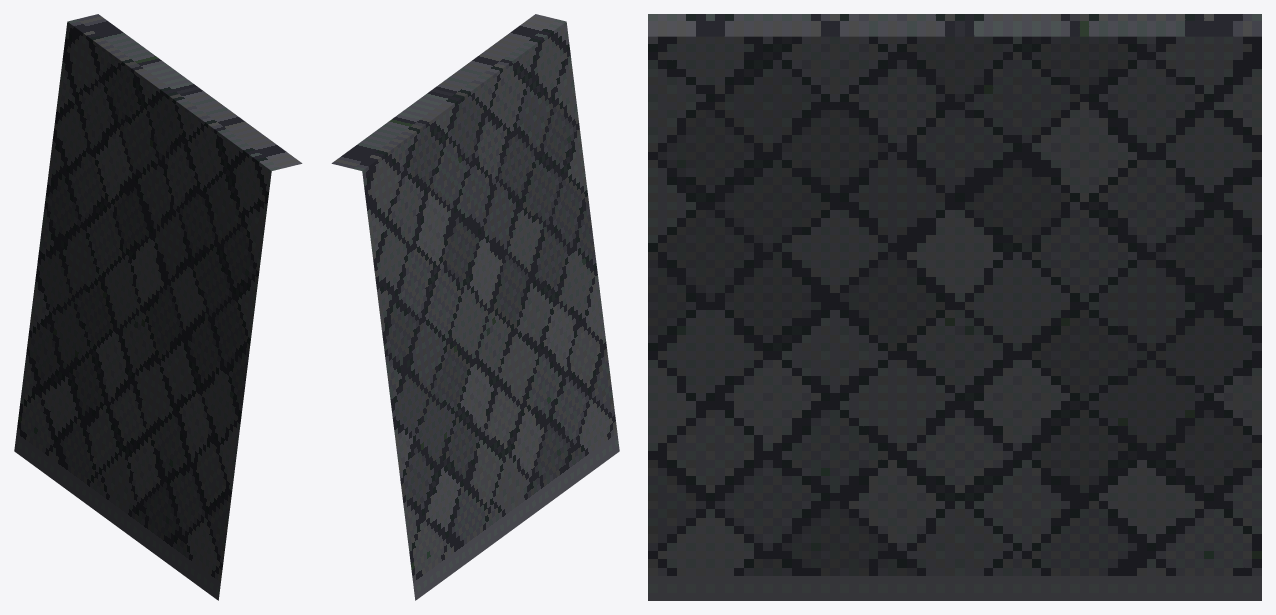
Rendered from mtn_stone_wall.glb.
3 renders of one model, left to right at view 1: azimuth 30°, elevation 25°; view 2: azimuth 150°, elevation 25°; view 3: azimuth 270°, elevation 25°, orthographic. The views are drawn at different scales.
Parts seen in each view (by area): view 1: mtn_stone_wall; view 2: mtn_stone_wall; view 3: mtn_stone_wall.
Boxes of the visible parts, x1,y1,x2,y2 form: mtn_stone_wall: (14, 14, 302, 600); mtn_stone_wall: (331, 14, 619, 600); mtn_stone_wall: (648, 14, 1261, 600).
Size of the model in its own units: 0.95 by 4.5 by 4.
Materials: 1 (1 with a texture image).
